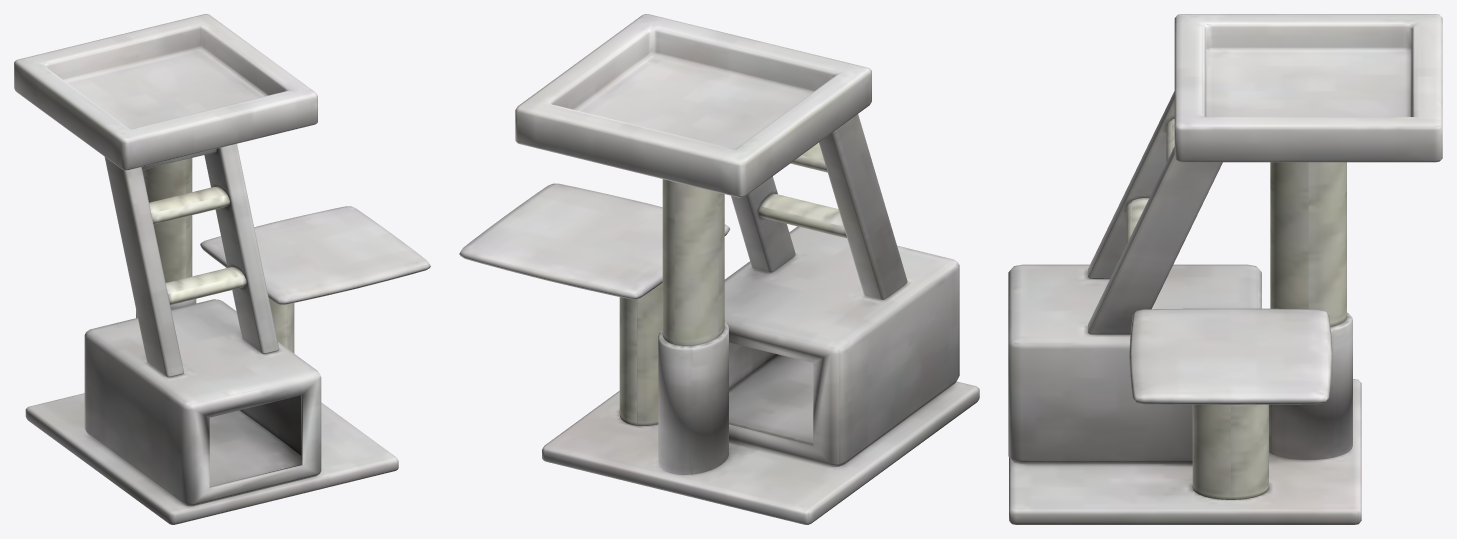
File: sh-scopia-arbre-a-chat.glb
3 renders of one model, left to right at view 1: azimuth 30°, elevation 25°; view 2: azimuth 150°, elevation 25°; view 3: azimuth 270°, elevation 25°, orthographic. The views are drawn at different scales.
Parts seen in each view (by area): view 1: Boite_Cube.014, CordesEchelle_Cylinder.006; view 2: Boite_Cube.014, CordesEchelle_Cylinder.006; view 3: Boite_Cube.014, CordesEchelle_Cylinder.006.
Part boxes in pixels (<box>): Boite_Cube.014: <box>14,14,430,524</box>; CordesEchelle_Cylinder.006: <box>142,158,294,353</box>; Boite_Cube.014: <box>459,14,979,524</box>; CordesEchelle_Cylinder.006: <box>619,143,846,425</box>; Boite_Cube.014: <box>1008,14,1442,524</box>; CordesEchelle_Cylinder.006: <box>1126,118,1346,499</box>.
Size of the model in its own units: 1 by 1 by 1.
Materials: 2 (2 with a texture image).
